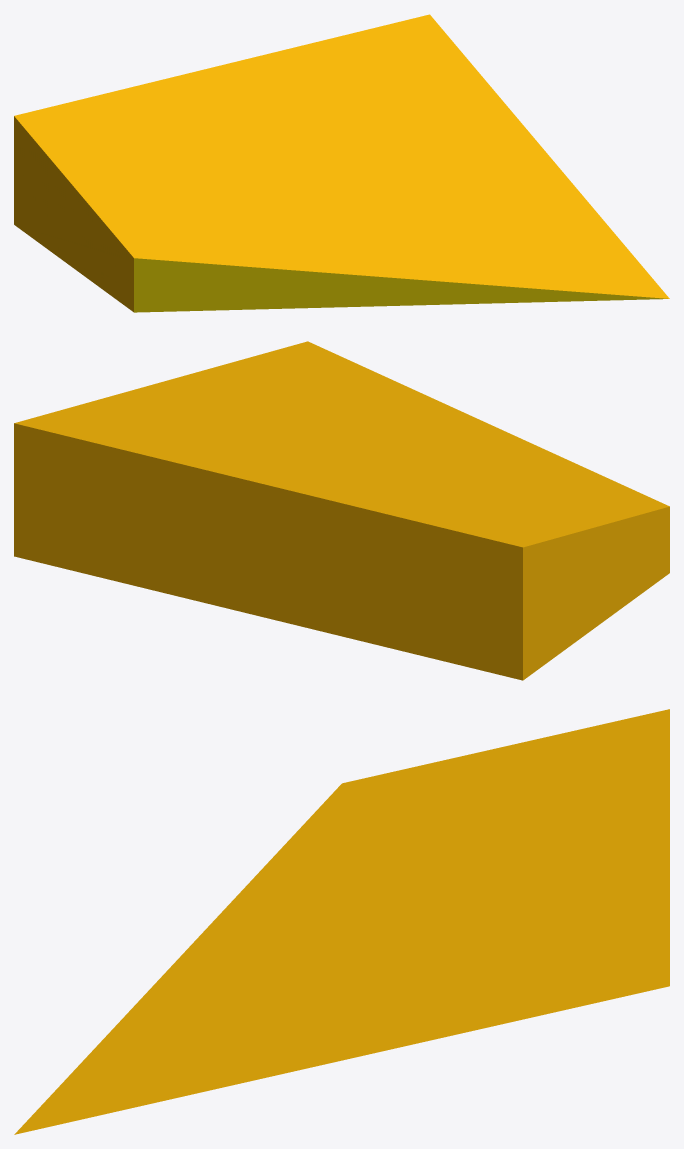
The model's file is wedge_4_4_4_cut_1.dae.
3 views of the same model, one above another, from view 1: azimuth 30°, elevation 25°; view 2: azimuth 150°, elevation 25°; view 3: azimuth 270°, elevation 25° (orthographic). The views are drawn at different scales.
Parts seen in each view (by area): view 1: Cube; view 2: Cube; view 3: Cube.
Part boxes in pixels (box(x1,y1,x2,y2)): Cube: box(14, 14, 669, 312); Cube: box(14, 341, 669, 680); Cube: box(14, 709, 669, 1134).
Bounding box in the file's own units: 0.25 × 0.25 × 0.0625.
